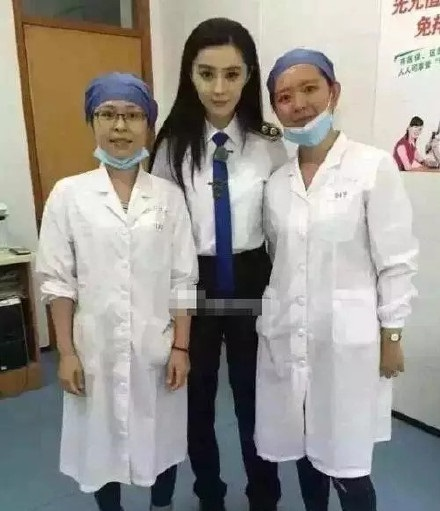face: (193, 44, 245, 116), (94, 92, 146, 160)
face_mask: (273, 66, 330, 139)
